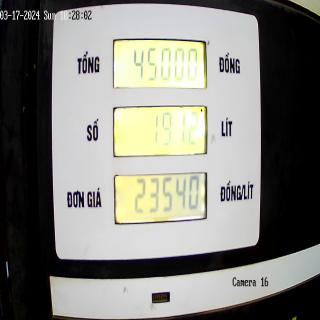screen: (112, 33, 209, 230)
